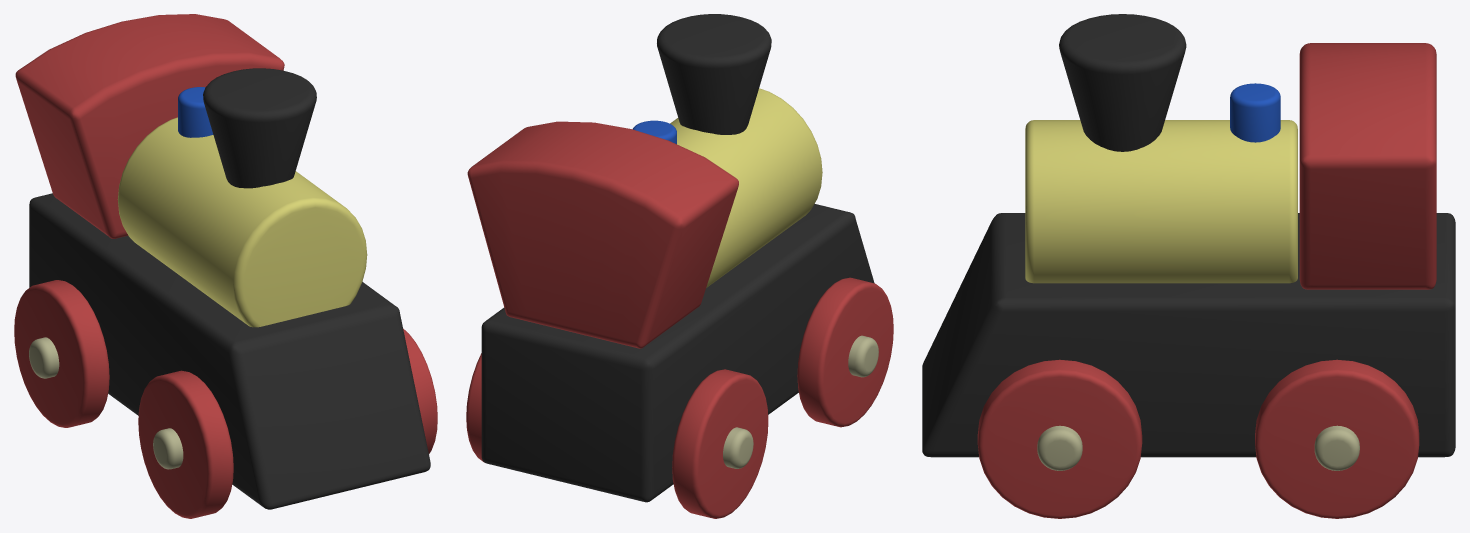
File: toy-train.obj
3 renders of one model, left to right at view 1: azimuth 30°, elevation 25°; view 2: azimuth 150°, elevation 25°; view 3: azimuth 270°, elevation 25°, orthographic. The views are drawn at different scales.
Parts seen in each view (by area): view 1: Body, Yellow_Cylinder, Back_Cube, Wheels, Chuchu, Wheel_Chromes, Blue_Cylinder; view 2: Body, Back_Cube, Wheels, Yellow_Cylinder, Chuchu, Wheel_Chromes, Blue_Cylinder; view 3: Body, Yellow_Cylinder, Wheels, Back_Cube, Chuchu, Wheel_Chromes, Blue_Cylinder.
Part boxes in pixels (bbox=[...]): Body: bbox=[29, 193, 430, 509]; Yellow_Cylinder: bbox=[117, 117, 367, 327]; Back_Cube: bbox=[15, 14, 284, 238]; Wheels: bbox=[14, 280, 437, 518]; Chuchu: bbox=[203, 68, 316, 188]; Wheel_Chromes: bbox=[29, 337, 183, 469]; Blue_Cylinder: bbox=[178, 87, 213, 137]; Body: bbox=[481, 204, 874, 502]; Back_Cube: bbox=[467, 121, 738, 348]; Wheels: bbox=[466, 277, 893, 518]; Yellow_Cylinder: bbox=[670, 88, 822, 287]; Chuchu: bbox=[657, 14, 771, 134]; Wheel_Chromes: bbox=[723, 335, 878, 468]; Blue_Cylinder: bbox=[633, 120, 676, 144]; Body: bbox=[922, 213, 1455, 457]; Yellow_Cylinder: bbox=[1025, 120, 1297, 283]; Wheels: bbox=[977, 359, 1419, 518]; Back_Cube: bbox=[1299, 43, 1436, 289]; Chuchu: bbox=[1059, 14, 1186, 151]; Wheel_Chromes: bbox=[1037, 425, 1359, 470]; Blue_Cylinder: bbox=[1230, 83, 1280, 142].
Bounding box in the file's own units: 3 × 4.23 × 4.87.
